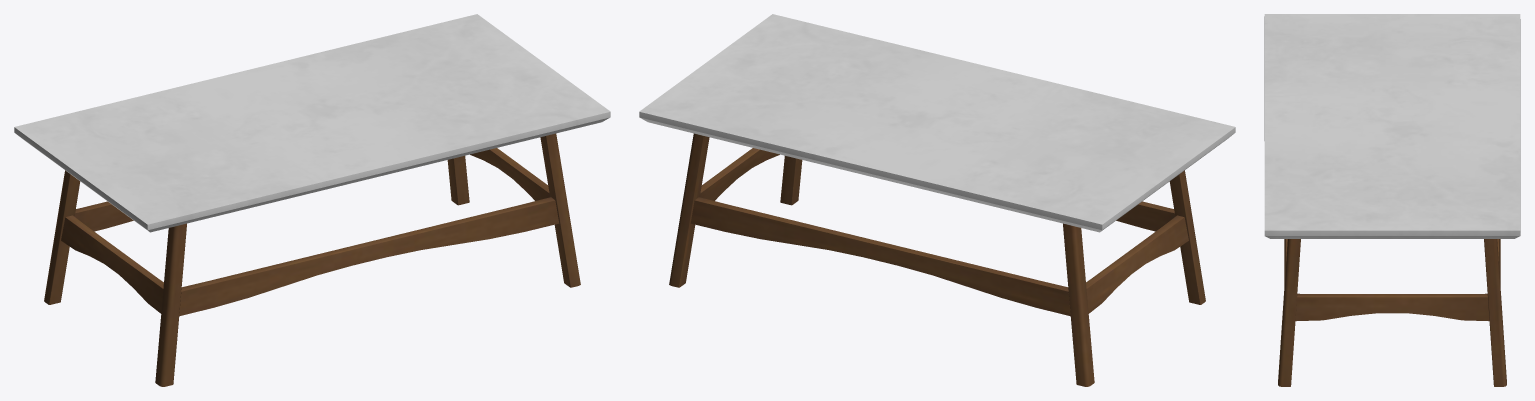
Rendered from ARC0810054.fbx.
The picture shows the model from 3 angles, left to right: view 1: azimuth 30°, elevation 25°; view 2: azimuth 150°, elevation 25°; view 3: azimuth 270°, elevation 25°; orthographic projection. The views are drawn at different scales.
Visible parts, largest first — view 1: smARC0810054; view 2: smARC0810054; view 3: smARC0810054.
Boxes of the visible parts, x1,y1,x2,y2 form: smARC0810054: (14, 14, 610, 386); smARC0810054: (639, 14, 1235, 386); smARC0810054: (1264, 14, 1520, 386).
Size of the model in its own units: 160 by 57.34 by 80.06.
1 material, 1 textured.
